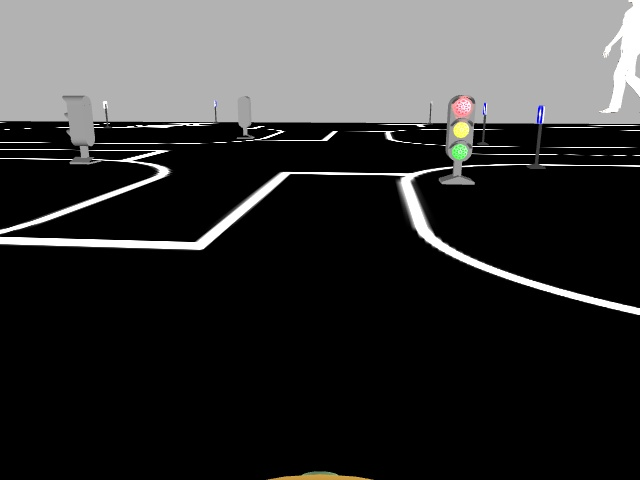TrafficLight: (445, 95, 476, 162)
